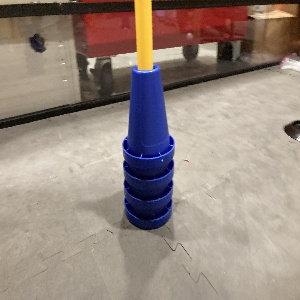Blue_4: (122, 63, 174, 229)
